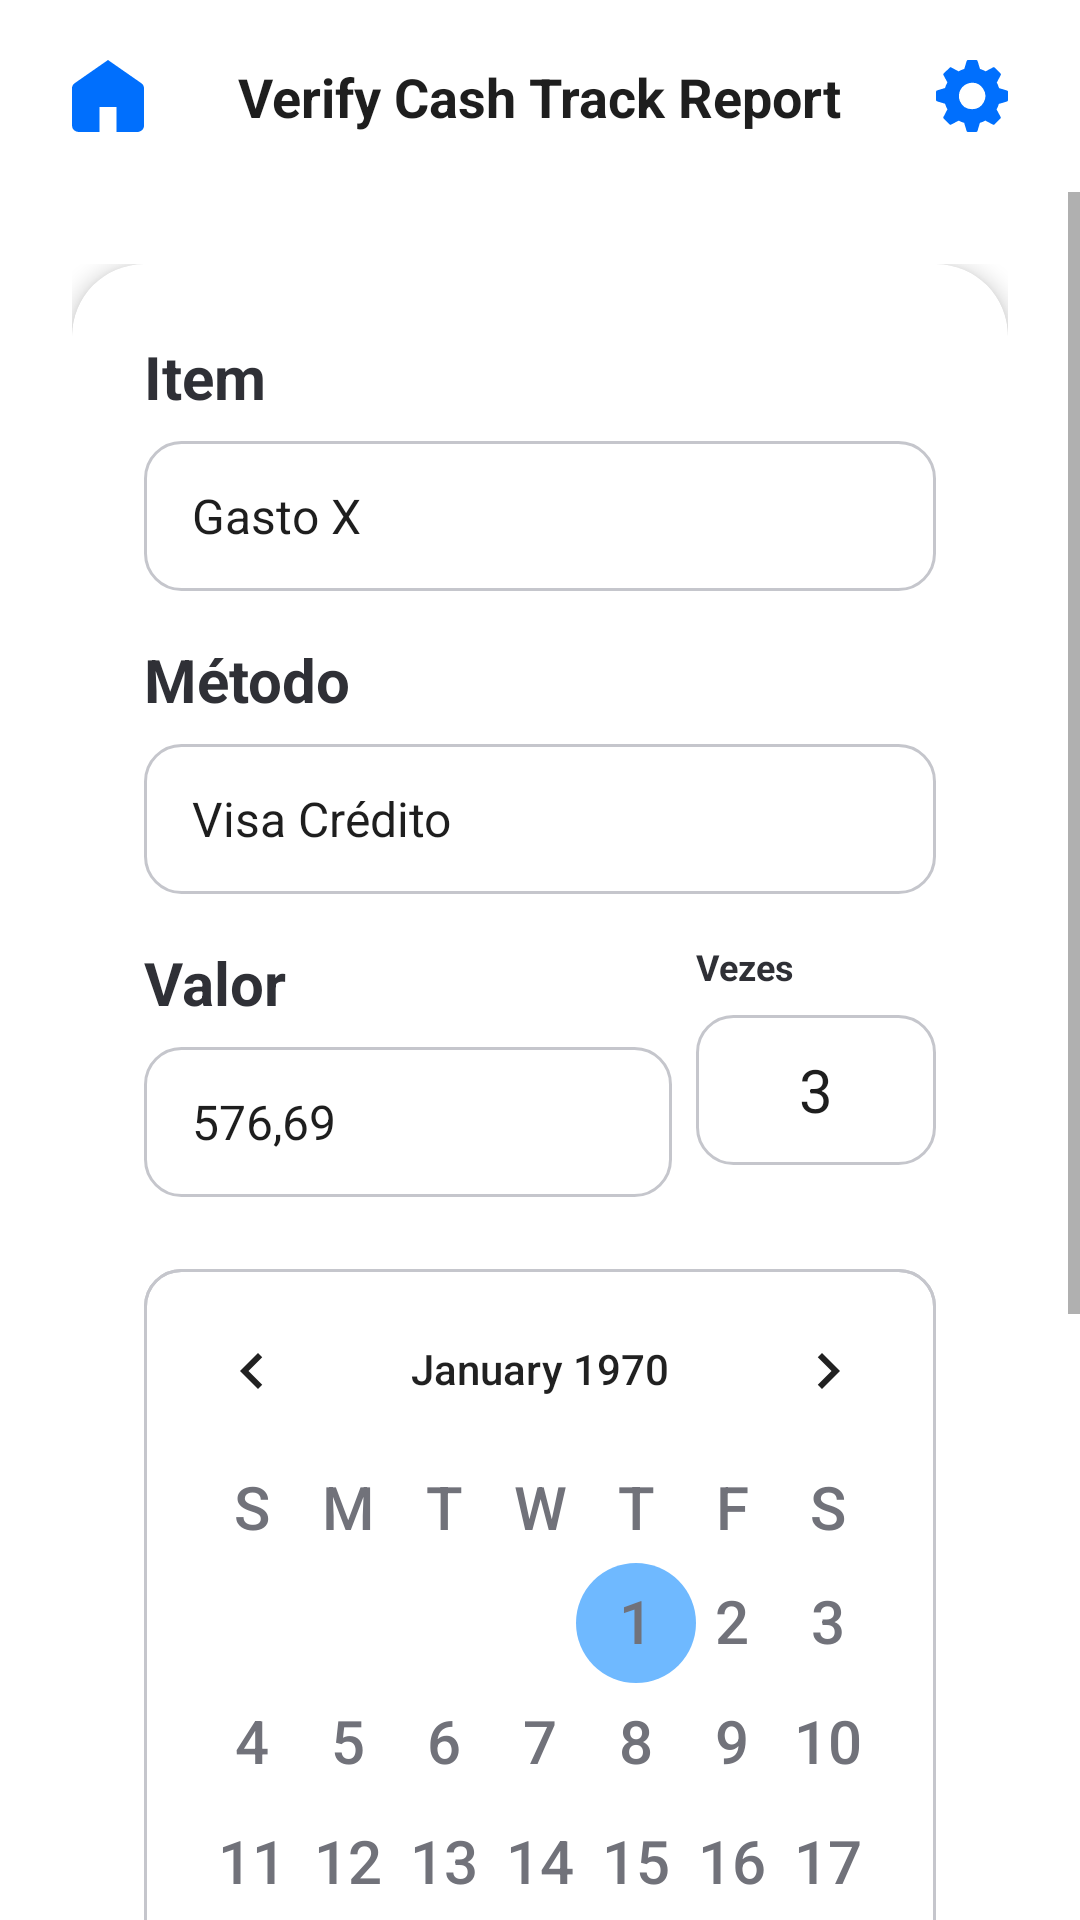

Where icons sit on this 1080 × 1920 app screen, as (x1, y1, x2, y2):
Configurações: (936, 60, 1008, 132)
Home: (72, 60, 144, 132)
